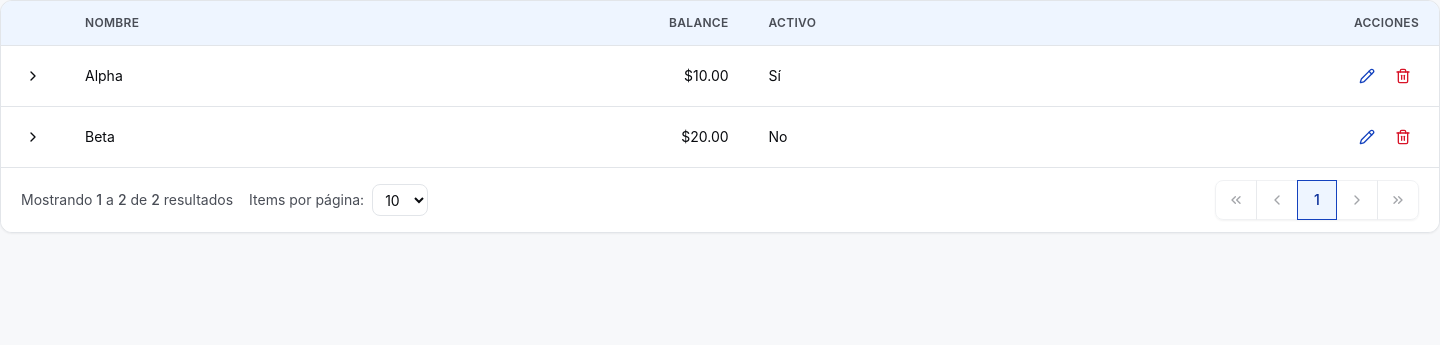
Scenario: GenericTable › en desktop (>= 1024px) › fila expandible: alterna el contenido expandido y aria-expanded al hacer clic
This screenshot has width=1440, height=345.
Expected: the text "Contenido expandido de Alpha" is not shown
Click the button named "Ver detalles" next to "Alpha" at (33, 76), box [17,60,49,92]
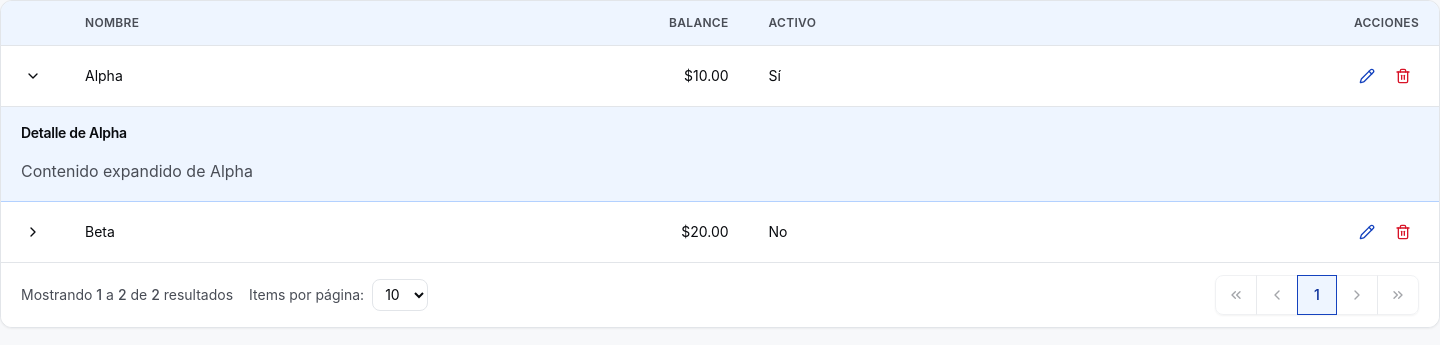
Expected: the text "Contenido expandido de Alpha" is shown, [21,162,253,181]
Expected: the heading "Detalle de Alpha" is shown, [21,124,127,141]
Expected: the button named "Ocultar detalles" is expanded
Click the button named "Ocultar detalles" at (33, 76), box [17,60,49,92]
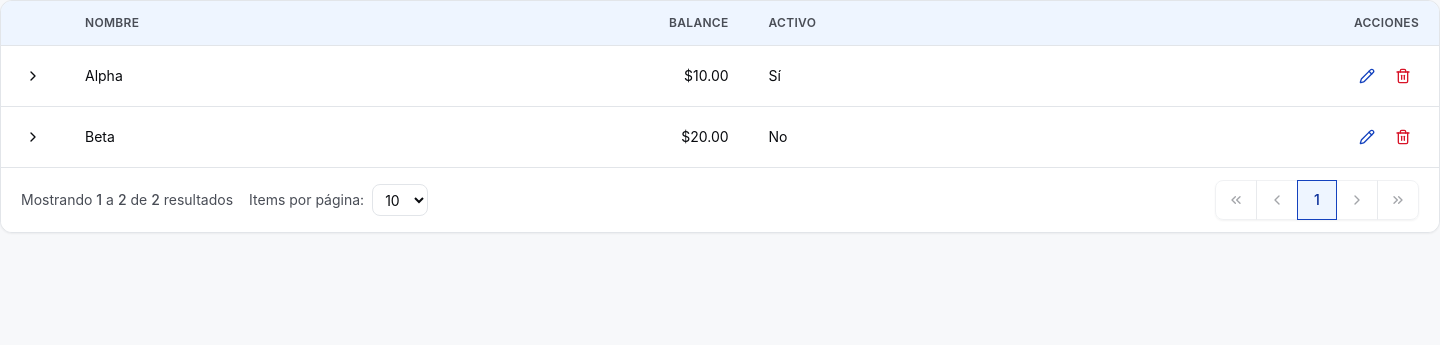
Expected: the text "Contenido expandido de Alpha" is gone
